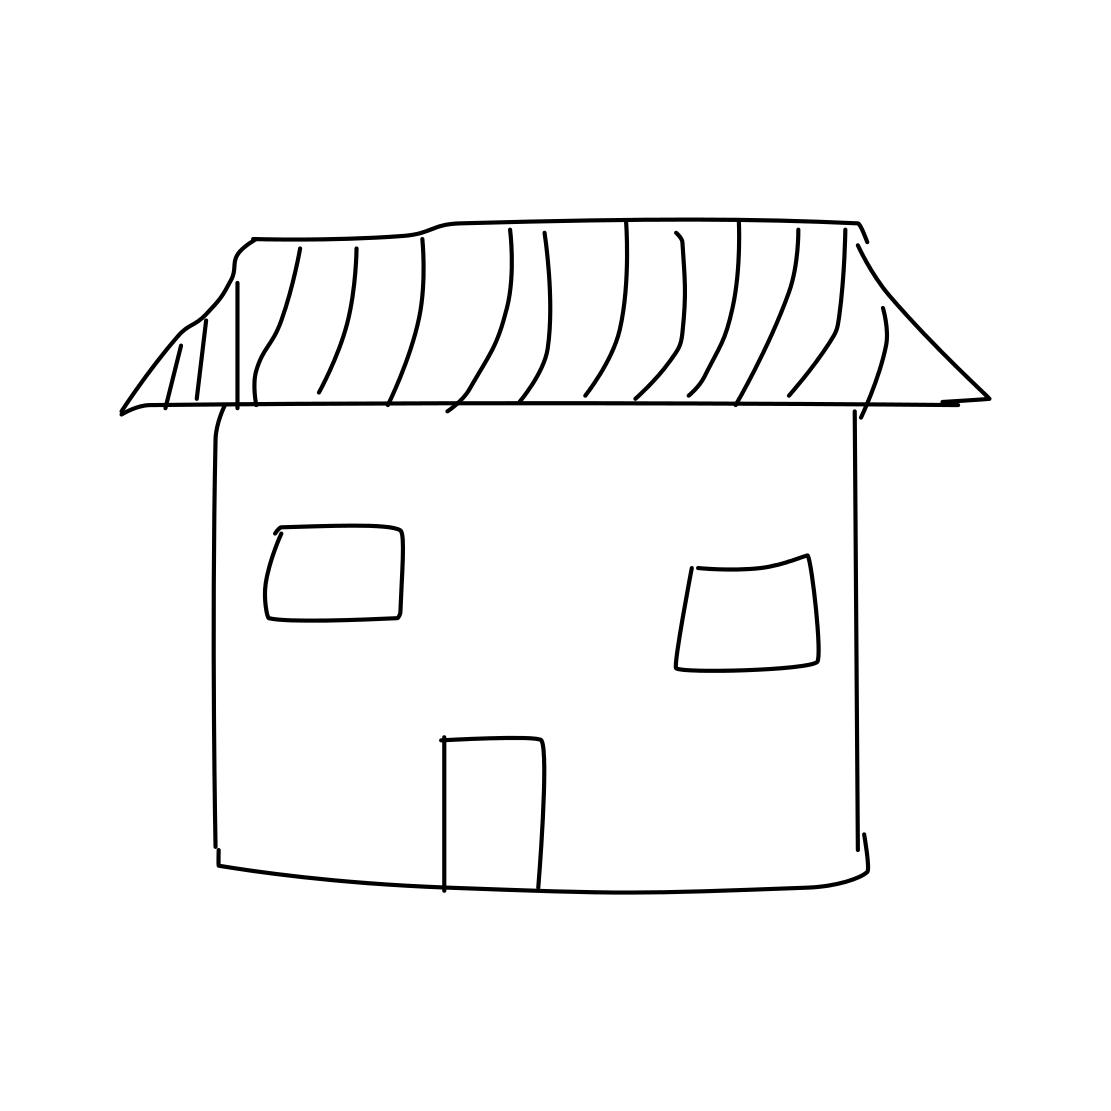House: (73, 171, 1021, 900)
